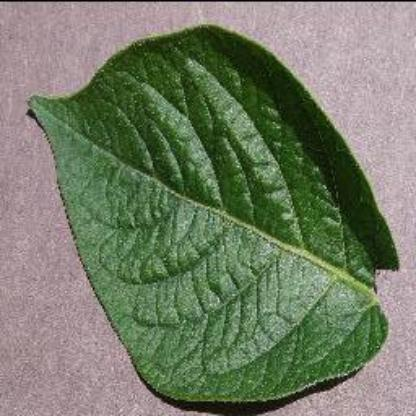Healthy-plant: (18, 23, 396, 408)
